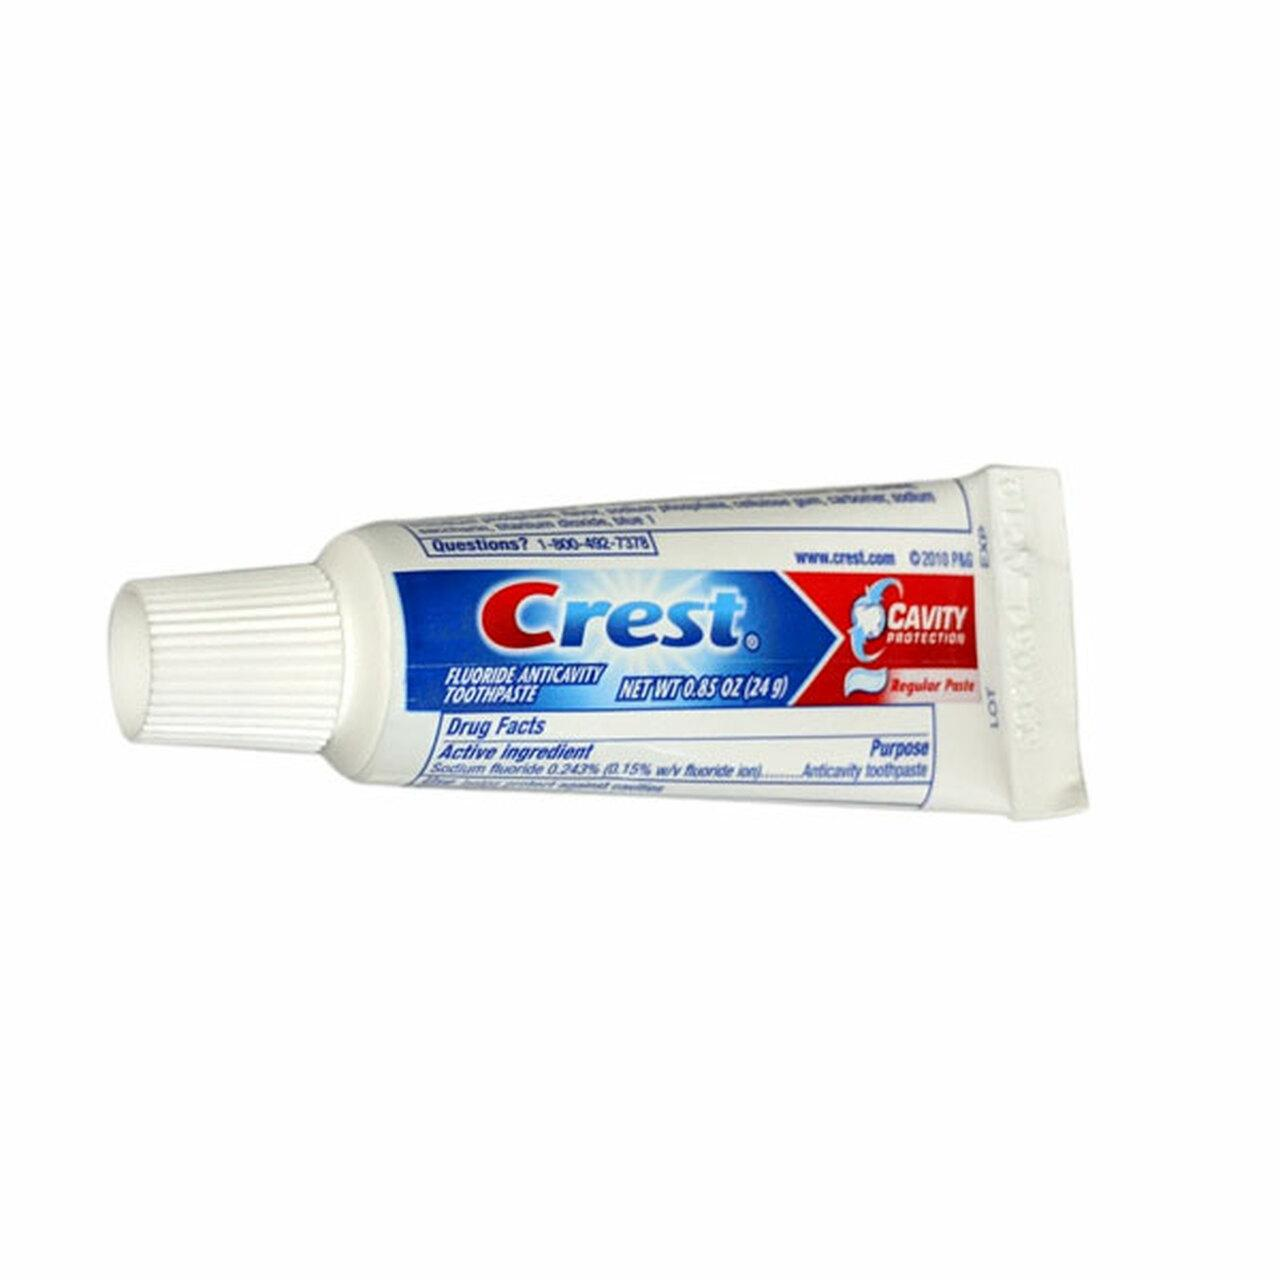toothpaste: (69, 433, 1061, 828)
